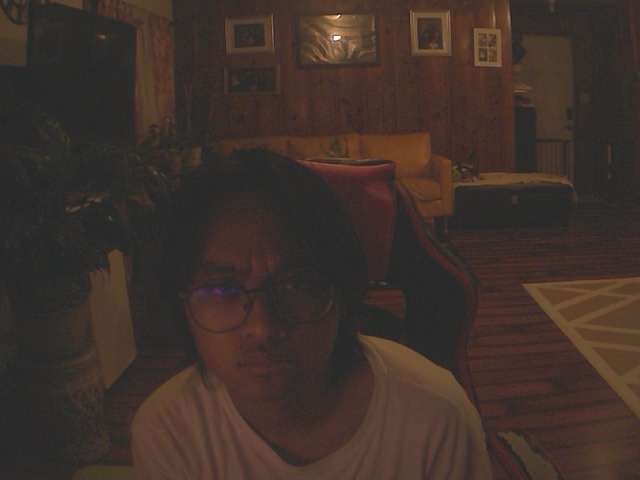anger: (173, 148, 350, 396)
